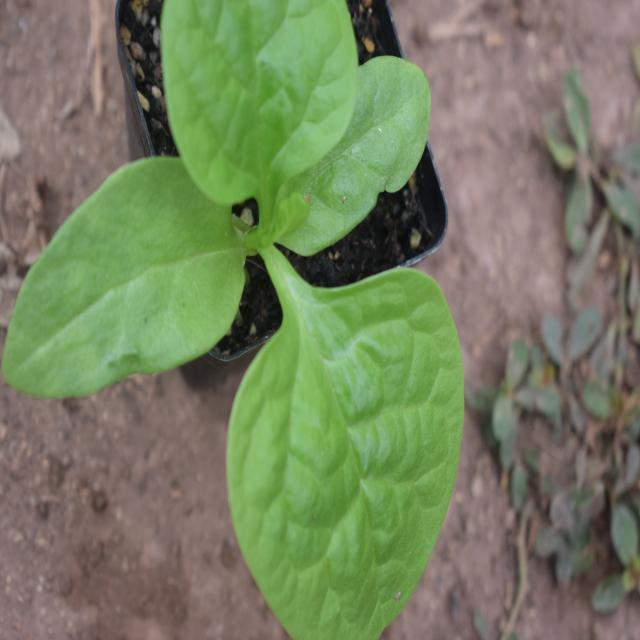Ceylon spinach: (41, 0, 461, 614)
